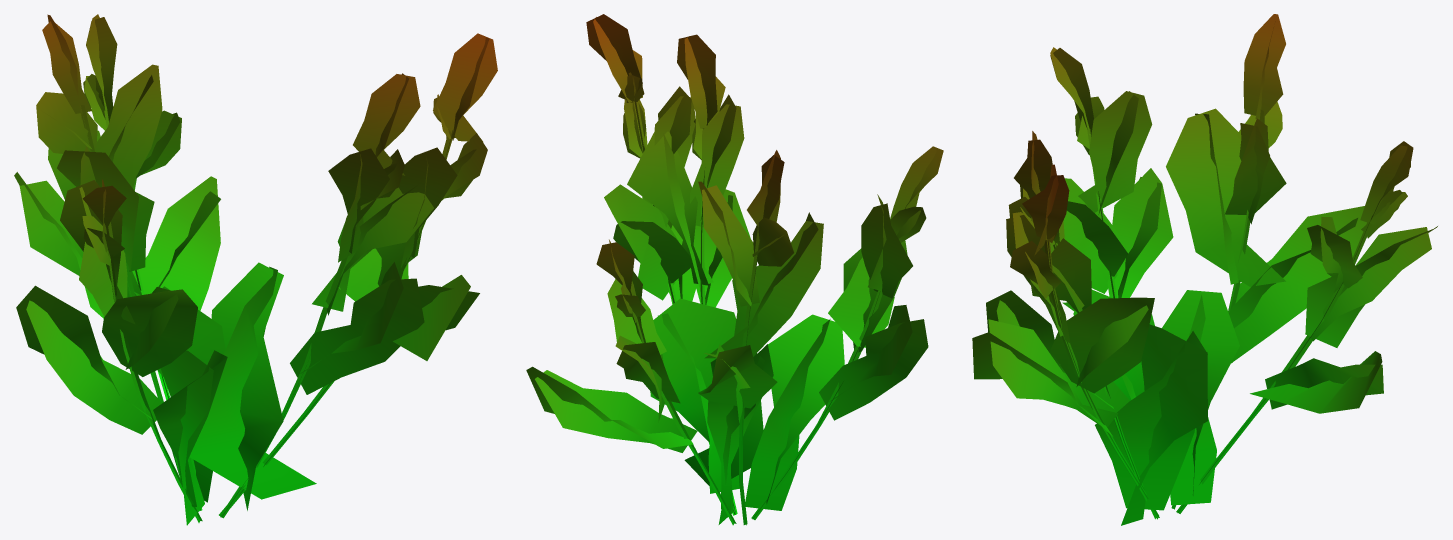
The model's file is Chamomile_LOD0_Var10_ujcnejvja.fbx.
The picture shows the model from 3 angles, left to right: view 1: azimuth 30°, elevation 25°; view 2: azimuth 150°, elevation 25°; view 3: azimuth 270°, elevation 25°; orthographic projection. The views are drawn at different scales.
Parts seen in each view (by area): view 1: _ju1j_Var10_LOD0; view 2: _ju1j_Var10_LOD0; view 3: _ju1j_Var10_LOD0.
Part boxes in pixels (left/top/right/bottom): _ju1j_Var10_LOD0: left=14, top=14, right=497, bottom=525; _ju1j_Var10_LOD0: left=526, top=14, right=943, bottom=525; _ju1j_Var10_LOD0: left=972, top=14, right=1437, bottom=525.
Size of the model in its own units: 15.62 by 17.04 by 15.82.
